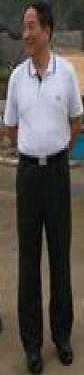boots: (25, 350, 41, 374), (0, 316, 12, 336)
